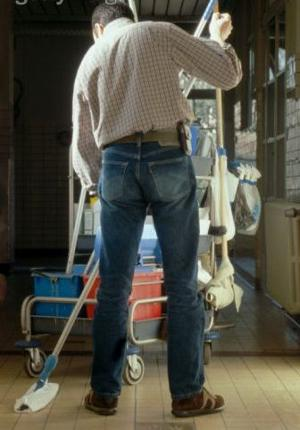person: (71, 3, 244, 420)
